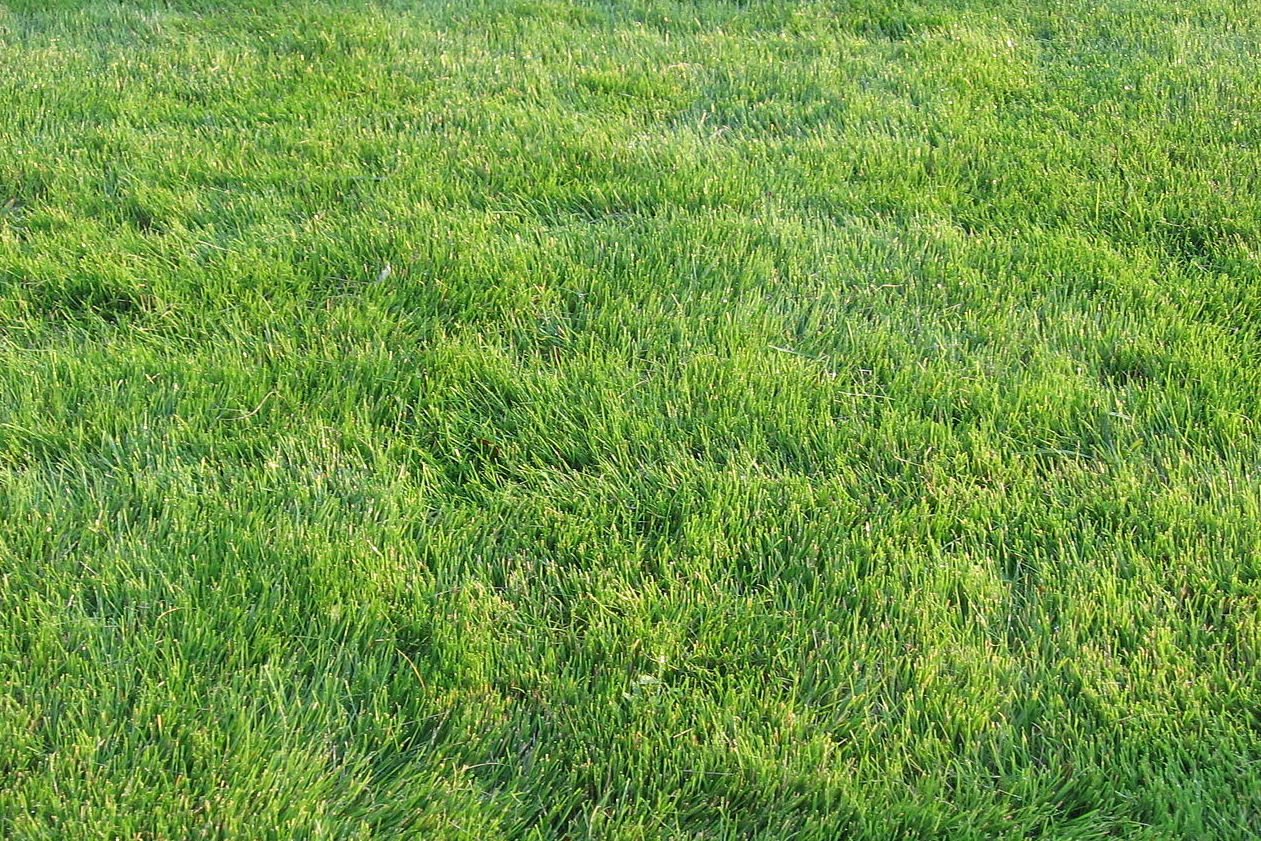grass: (4, 3, 1261, 841)
